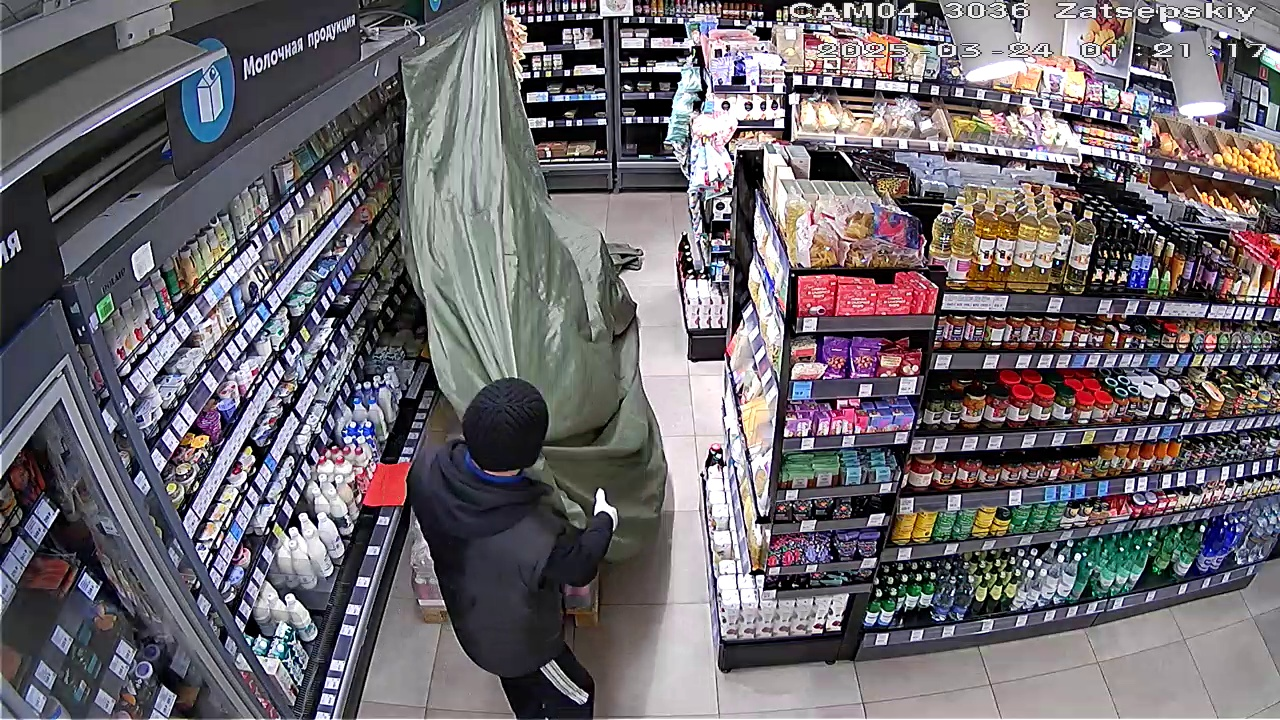Human: (402, 386, 587, 708)
dome: (391, 18, 642, 383)
